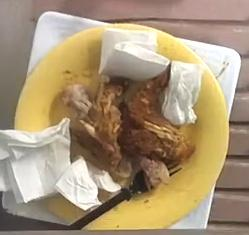chicken: (61, 67, 195, 187)
